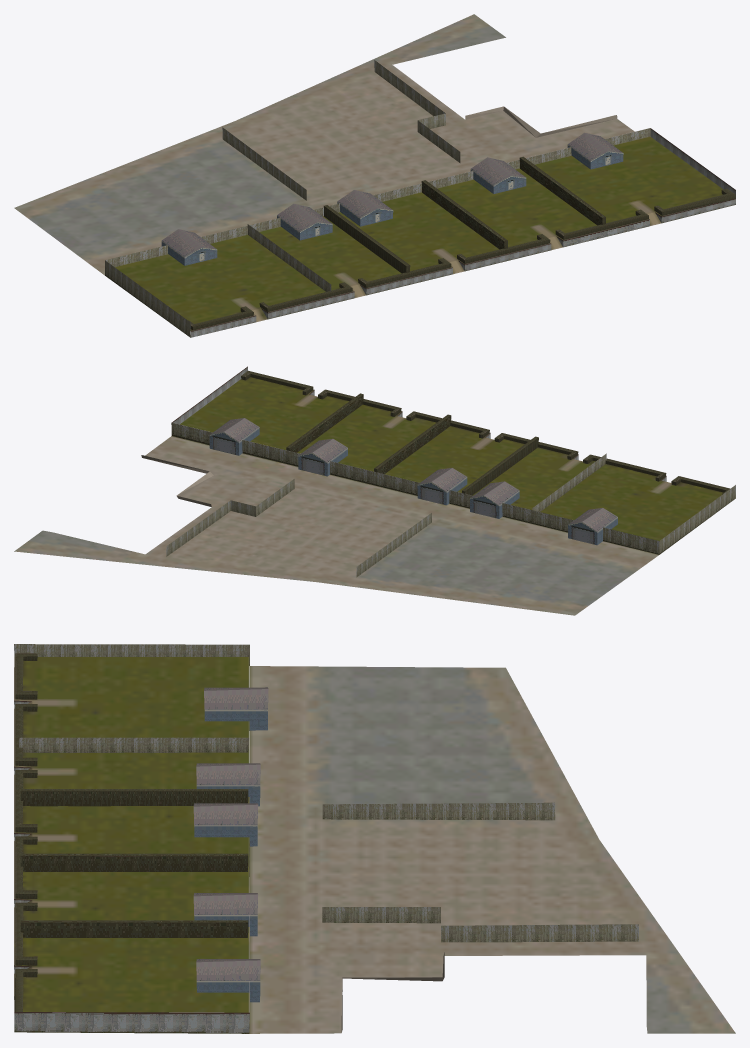
The model's file is lodedland1_las01.obj.
The picture shows the model from 3 angles, top to bottom: view 1: azimuth 30°, elevation 25°; view 2: azimuth 150°, elevation 25°; view 3: azimuth 270°, elevation 25°; orthographic projection. The views are drawn at different scales.
Parts seen in each view (by area): view 1: LODedland1_LAS01; view 2: LODedland1_LAS01; view 3: LODedland1_LAS01.
Part boxes in pixels (x1=…): LODedland1_LAS01: x1=14, y1=14, x2=735, y2=337; LODedland1_LAS01: x1=14, y1=366, x2=735, y2=615; LODedland1_LAS01: x1=14, y1=644, x2=735, y2=1033.
Bounding box in the file's own units: 120 × 5.01 × 99.78.
4 materials, 4 textured.
